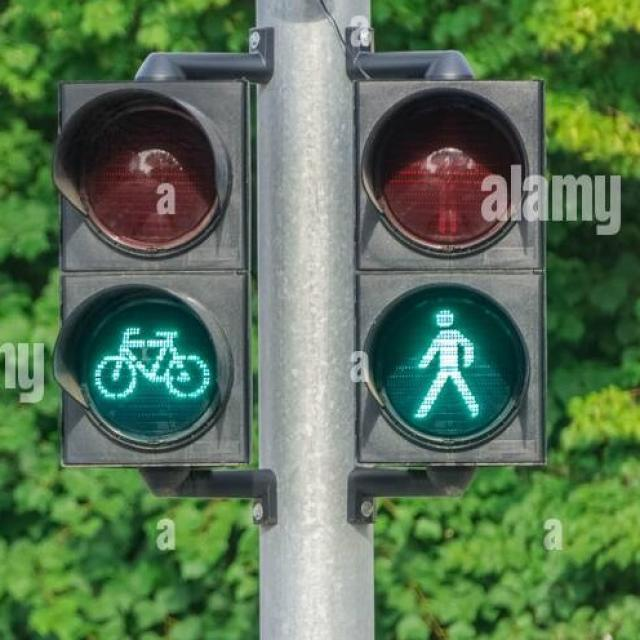geen-crossing: (401, 302, 492, 435)
